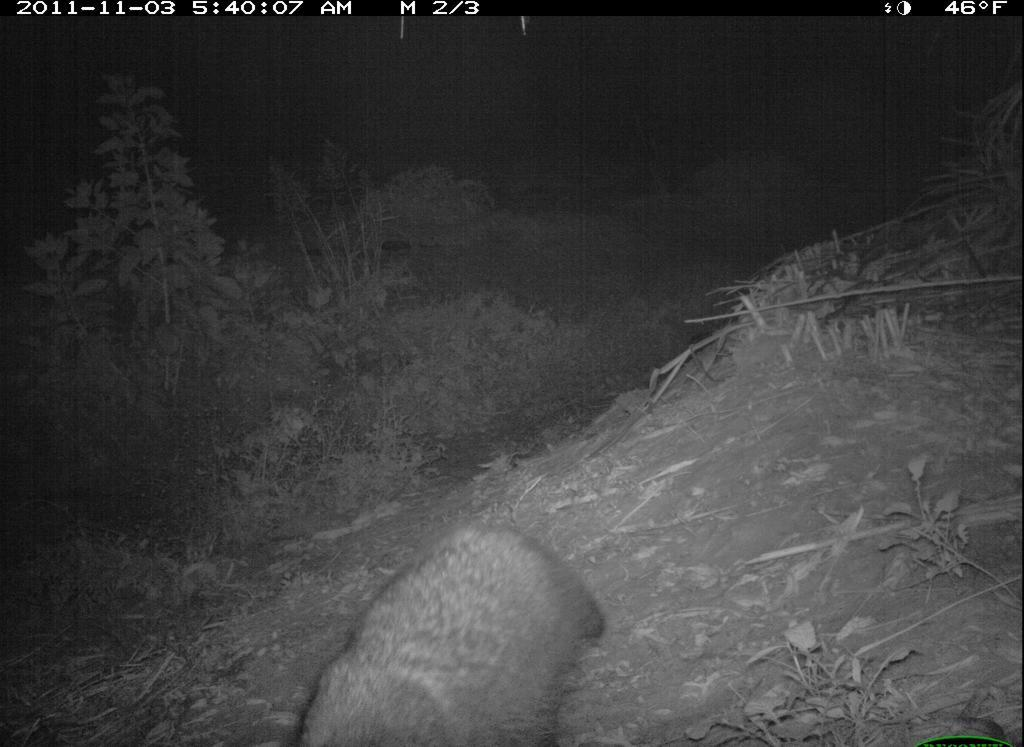raccoon: (290, 516, 624, 747)
